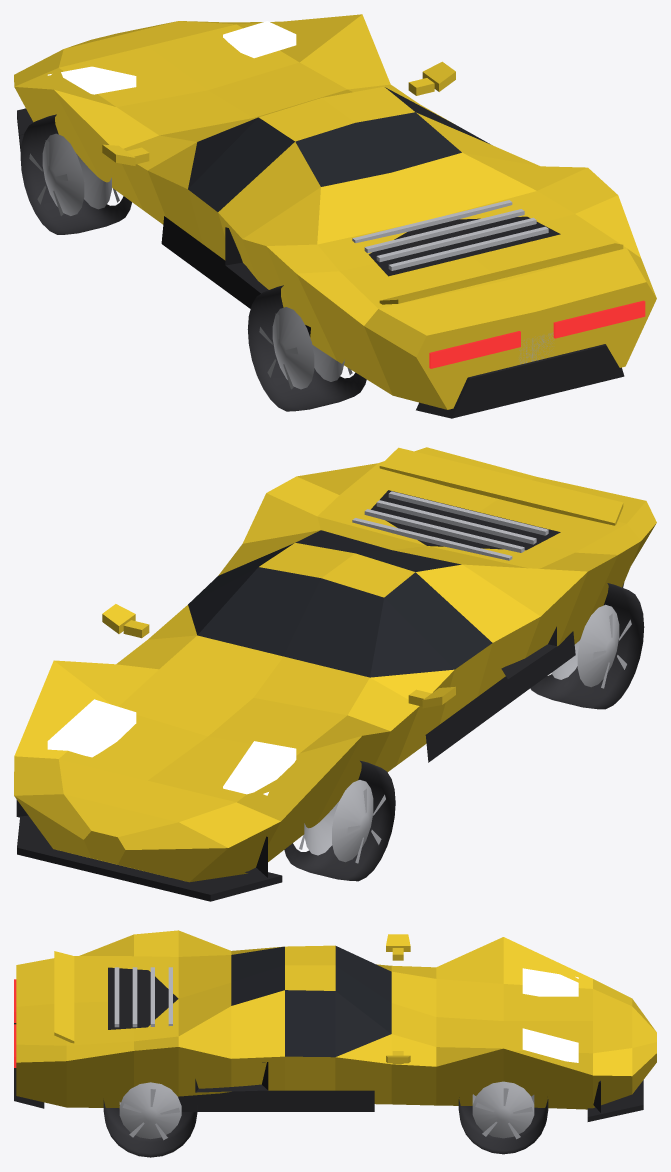
The model's file is car2.glb.
3 renders of one model, top to bottom at view 1: azimuth 30°, elevation 25°; view 2: azimuth 150°, elevation 25°; view 3: azimuth 270°, elevation 25°, orthographic. The views are drawn at different scales.
Parts seen in each view (by area): view 1: Body, Wheel_RL, Wheel_FL; view 2: Body, Wheel_RL, Wheel_FL; view 3: Body, Wheel_RR, Wheel_FR.
Boxes of the visible parts, bbox=[...] form: Body: bbox=[14, 14, 656, 418]; Wheel_RL: bbox=[247, 285, 366, 411]; Wheel_FL: bbox=[20, 114, 131, 234]; Body: bbox=[14, 447, 656, 901]; Wheel_RL: bbox=[530, 583, 644, 709]; Wheel_FL: bbox=[284, 760, 395, 881]; Body: bbox=[14, 930, 656, 1121]; Wheel_RR: bbox=[103, 1082, 197, 1157]; Wheel_FR: bbox=[458, 1081, 548, 1154].
Bounding box in the file's own units: 2.6 × 1.31 × 5.74.
